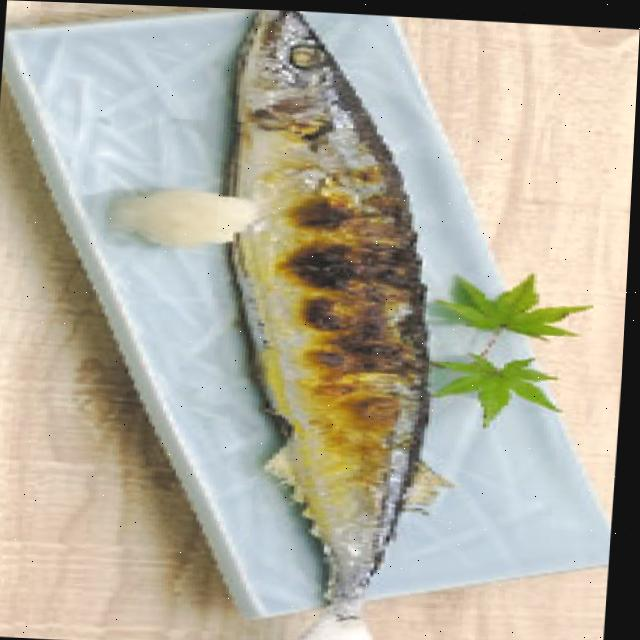熟制海鲜: (186, 6, 441, 640)
